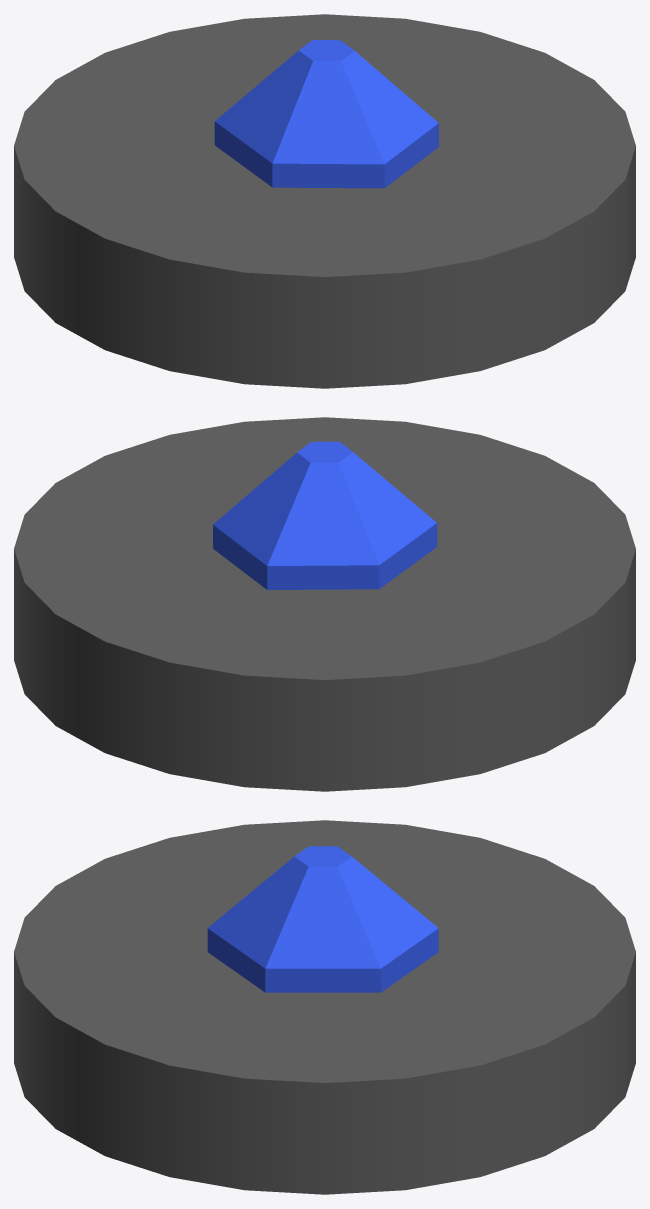
Rendered from gems_sapphire_1.obj.
3 renders of one model, top to bottom at view 1: azimuth 30°, elevation 25°; view 2: azimuth 150°, elevation 25°; view 3: azimuth 270°, elevation 25°, orthographic.
Parts seen in each view (by area): view 1: mergedBlocks; view 2: mergedBlocks; view 3: mergedBlocks.
Part boxes in pixels (left/top/right/bottom): mergedBlocks: left=14, top=14, right=635, bottom=388; mergedBlocks: left=14, top=417, right=635, bottom=791; mergedBlocks: left=14, top=820, right=635, bottom=1194.
Size of the model in its own units: 1 by 0.3675 by 1.
